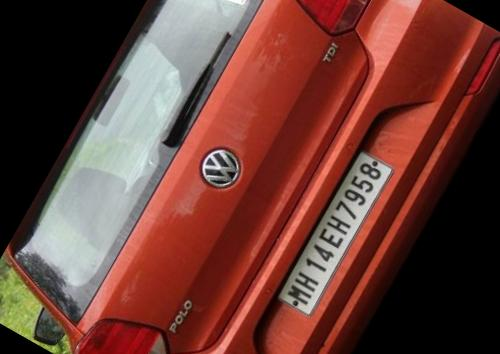plate: (255, 132, 419, 341)
